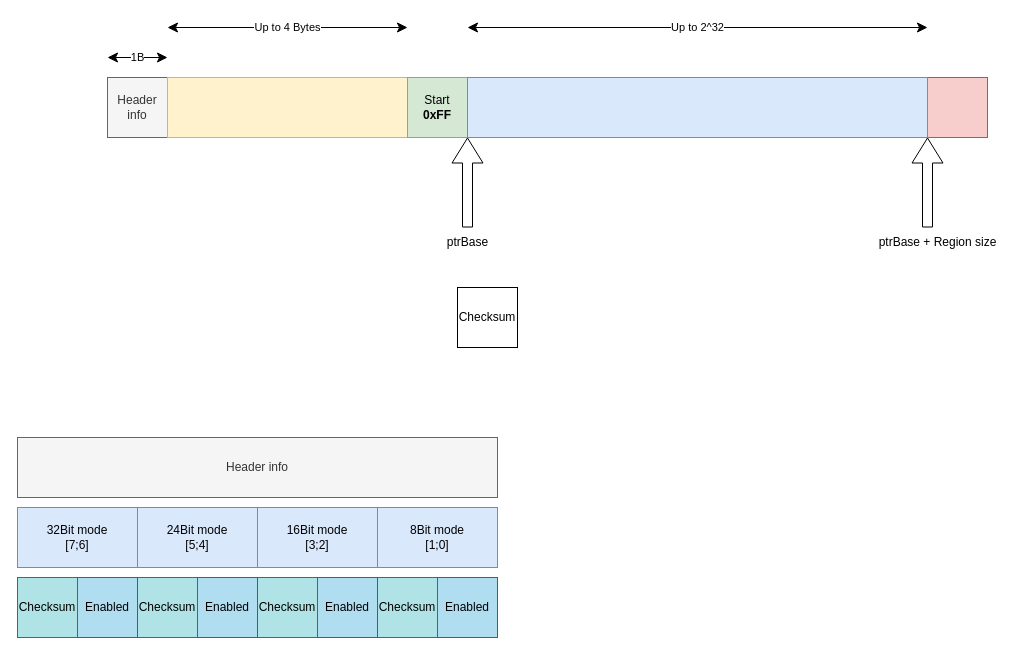
Some shapes in this 1025 by 655 pixel diagram are drawn without their labels. Here are the shapes that lost their labels. From the top down, the centre of each, then its label:
the point at 287,107: Region size
the point at 697,107: Allocated region
the point at 957,107: End 0xFF
